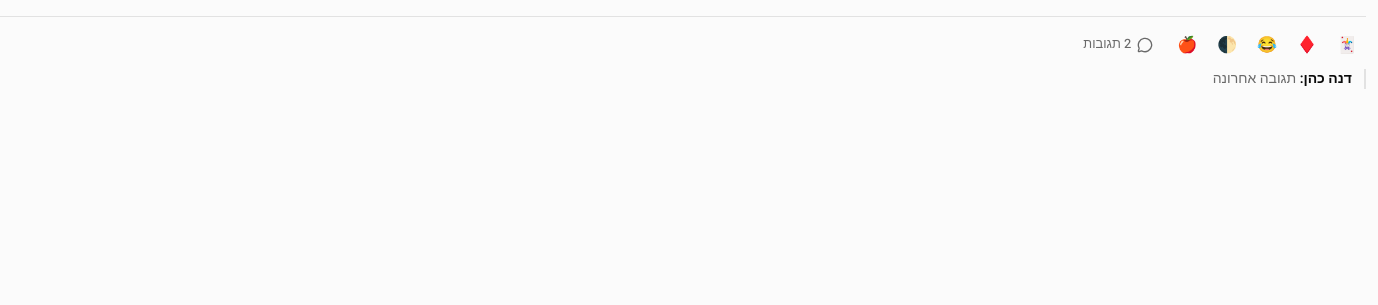
QuoteEngagement › keeps a failed full-thread load visibly retryable
Step 1. Click the button "2 תגובות" → coordinates (1118, 45), box x1=1072 y1=31 x2=1164 y2=59
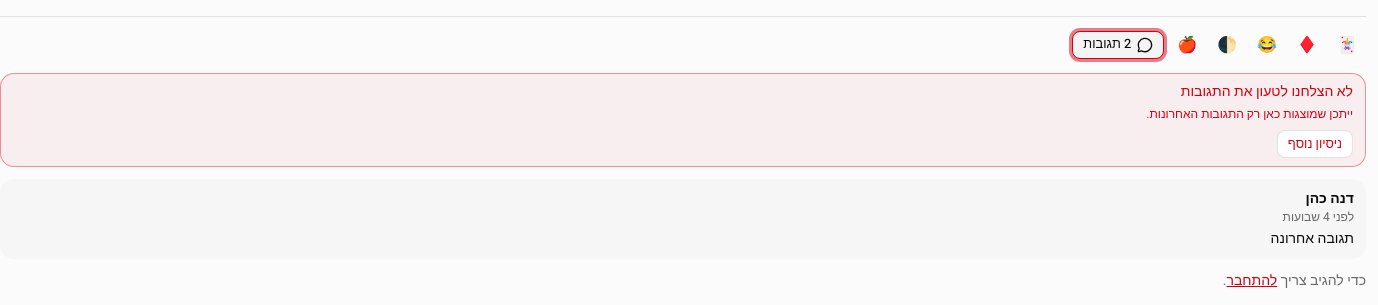
Check: the message shows "ייתכן שמוצגות כאן רק התגובות האחרונות", box x1=1146 y1=105 x2=1353 y2=123
Step 2. Click the button "ניסיון נוסף" → coordinates (1315, 144), box x1=1277 y1=130 x2=1353 y2=158
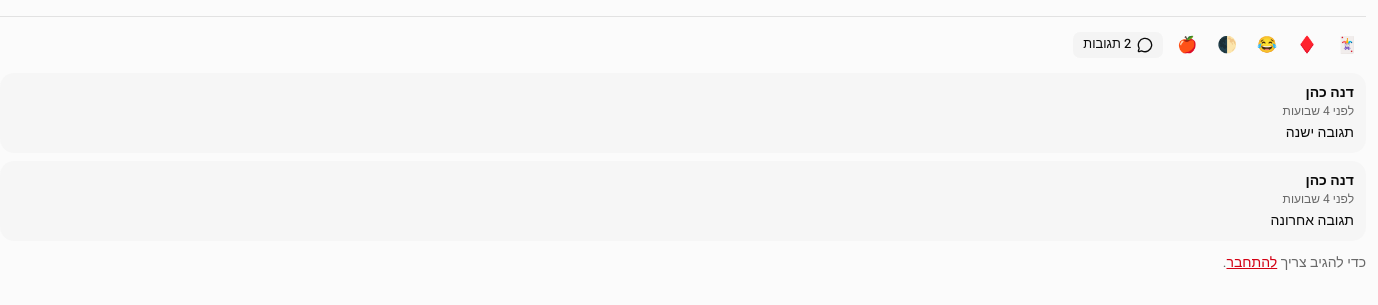
Check: the text "תגובה ישנה" is shown, box x1=1286 y1=122 x2=1354 y2=143
Check: the message "לא הצלחנו לטעון את התגובות ייתכן שמוצגות כאן רק התגובות האחרונות. ניסיון נוסף" is gone
